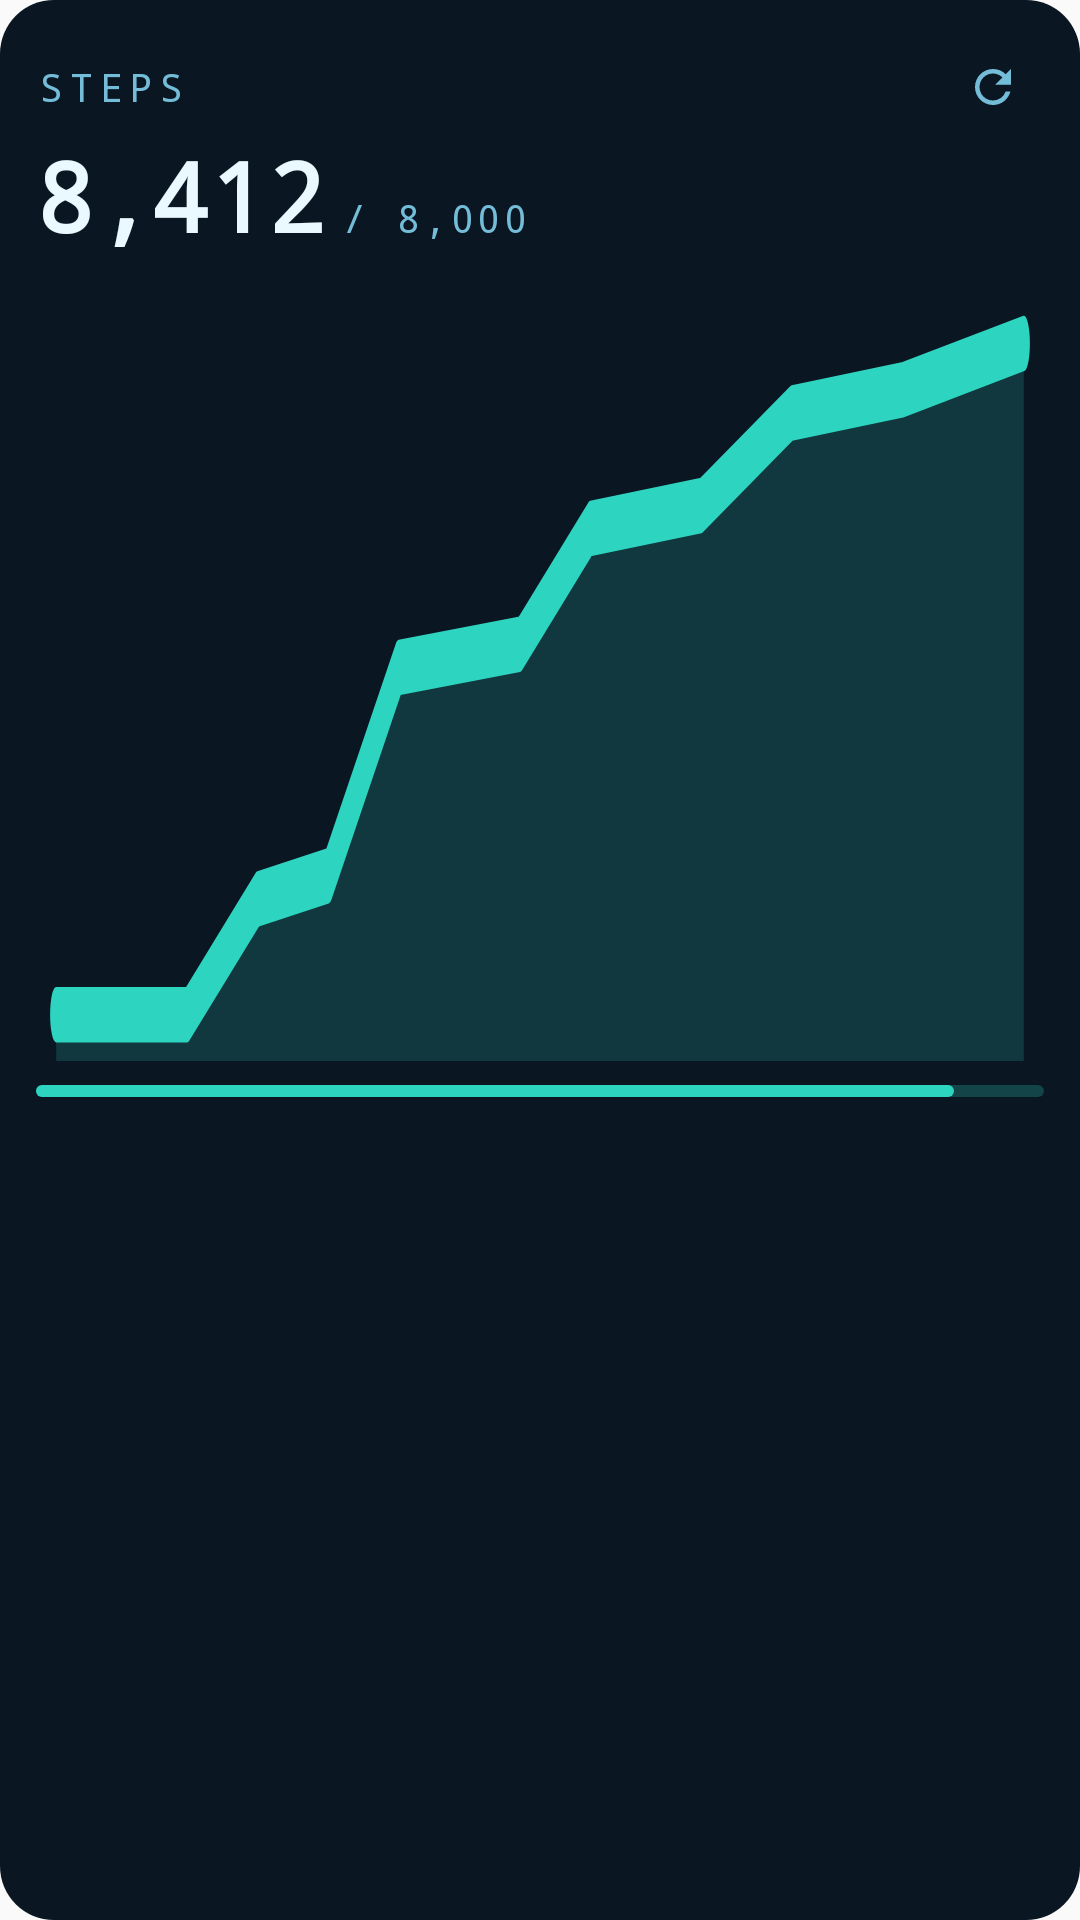

Icons on this 1080 x 1920 Android screen, each with the point to tap as (x=x, y=y):
Sync now: (x=993, y=87)
